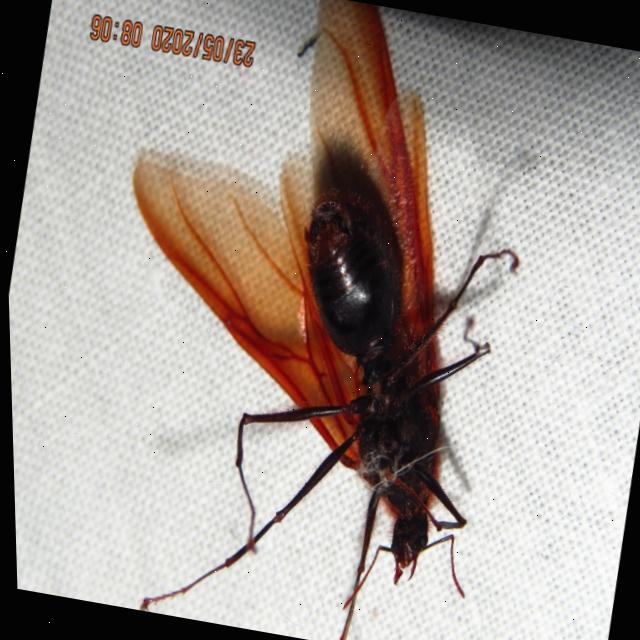Dead-Male-Alate: (53, 0, 566, 640)
